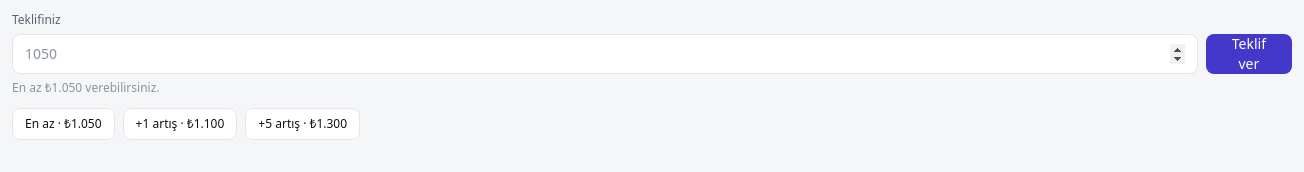
Test: BidForm › fills the field from a shortcut built on the server's minimum
Click the button "+1 artış · ₺1.100".
click(180, 124)  # box x1=123 y1=108 x2=237 y2=140
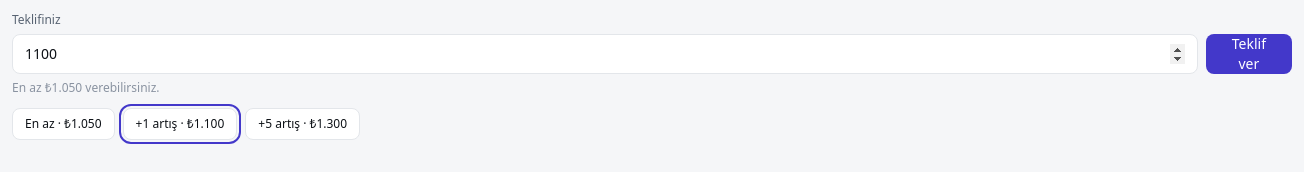
Result: the number field labelled "Teklifiniz" holds "1100" at x1=12 y1=34 x2=1198 y2=74
